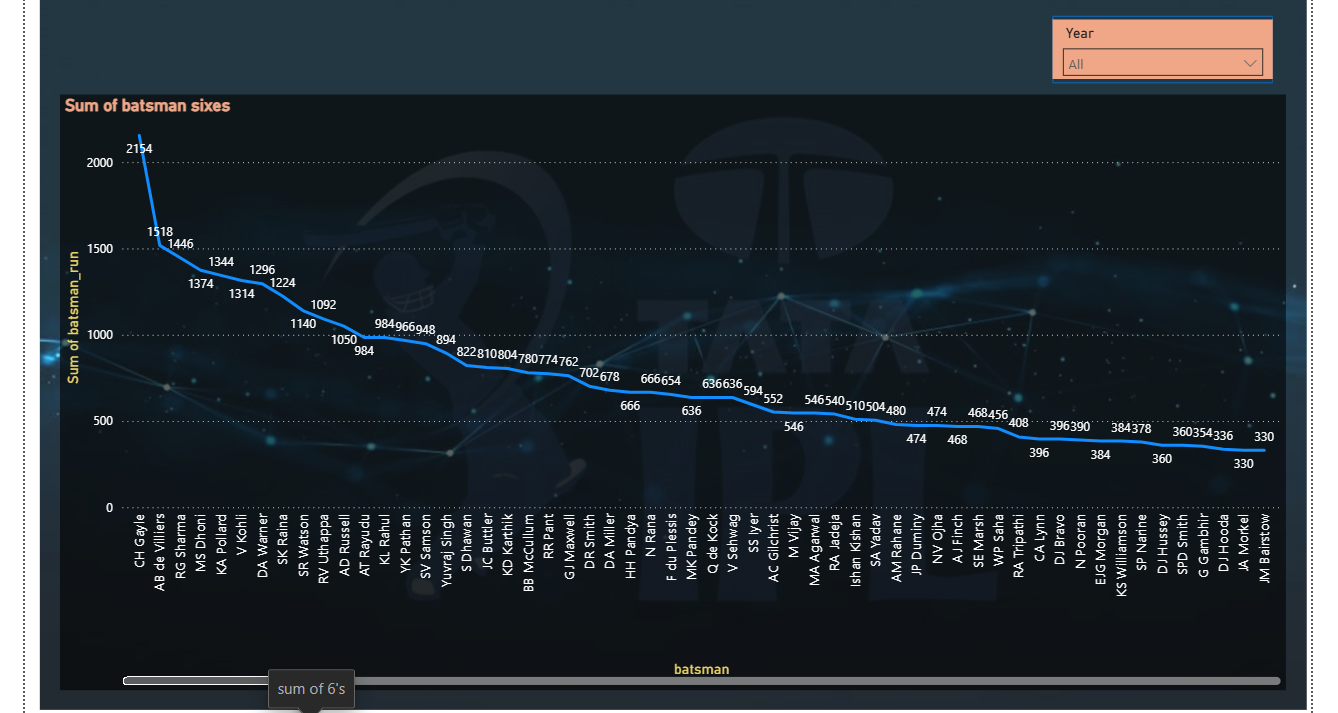

The dashboard page shown, as its layout file describes it:
{"tool":"powerbi","page":{"name":"sum of 6's","canvas":[1280,720],"ordinal":1},"visuals":[{"type":"image","box":[9.8,0,1270.5,720.2],"z":0},{"type":"lineChart","title":"Sum of batsman sixes","fields":{"Category":["ipl_ball_by_ball_2008_2022.batter"],"Y":["Sum(ipl_ball_by_ball_2008_2022.batsman_run)"]},"box":[34.3,101.5,1219.9,592.8],"z":1000},{"type":"shape","box":[1022.3,23.3,219.6,67.2],"z":2000},{"type":"slicer","fields":{"Values":["Calender Table.Year"]},"box":[1022.3,27.4,219.6,59],"z":3000}]}

Visuals, with their boxes on the page's 1280x720 design canvas (x1, y1, x2, y2). These are canvas units, not pixel positions in the 1338x713 screenshot, which may show the page scaled, cropped or inside an application window:
image: <region>10, 0, 1280, 720</region>
"Sum of batsman sixes" lineChart: <region>34, 102, 1254, 694</region>
shape: <region>1022, 23, 1242, 90</region>
slicer - Calender Table.Year: <region>1022, 27, 1242, 86</region>
